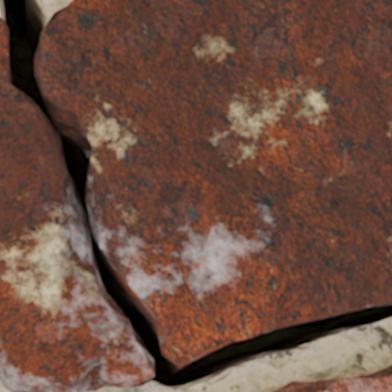brick: (274, 366, 391, 391)
broken_brick: (39, 0, 391, 366), (0, 16, 153, 391)
crack: (0, 0, 391, 389)
